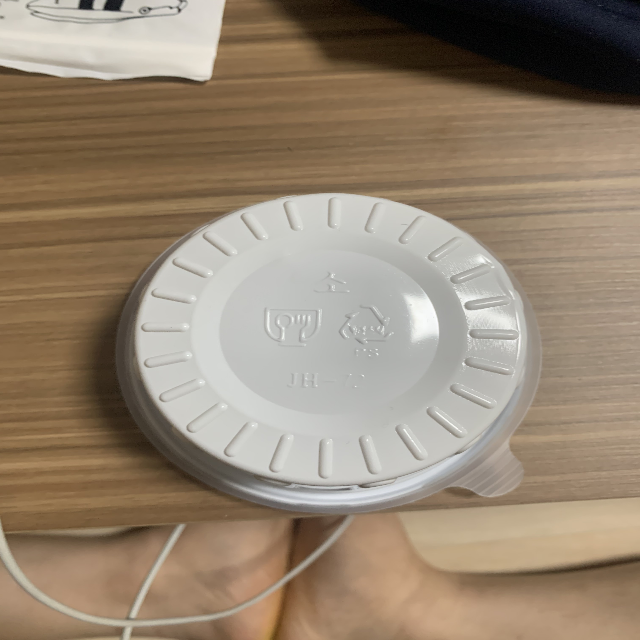ps: (338, 299, 402, 362)
